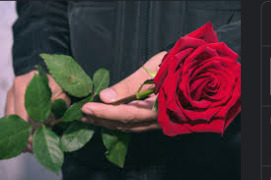RedRose: (152, 33, 242, 130)
